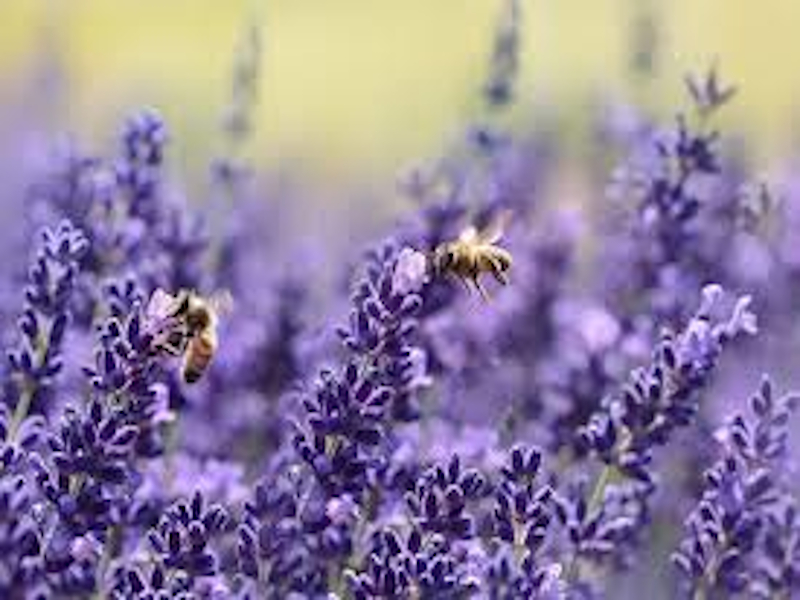abeja: (414, 221, 536, 302), (166, 279, 237, 394)
